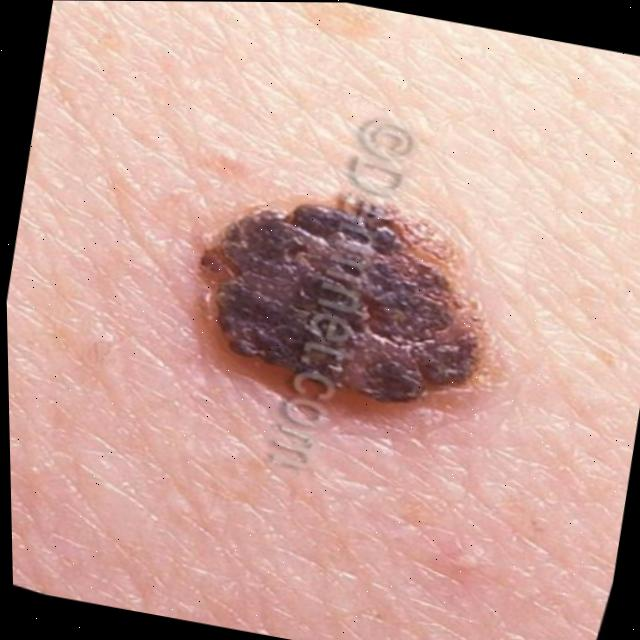Eczema: (188, 180, 487, 424)
